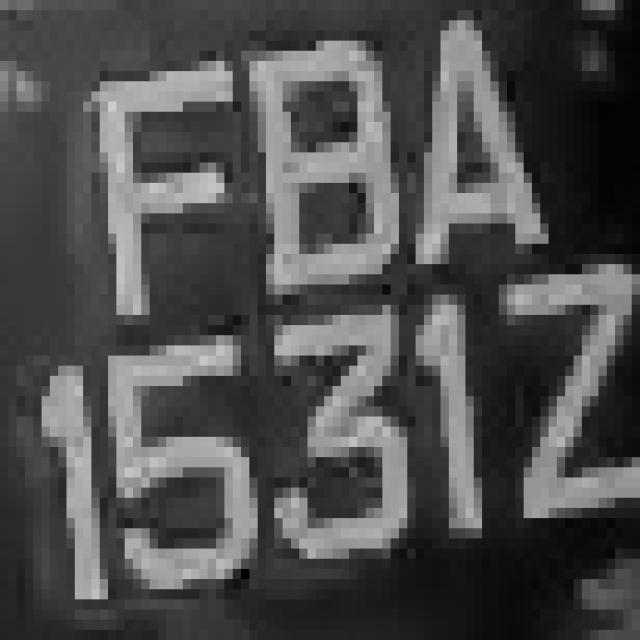1: (399, 284, 499, 579), (17, 335, 116, 610)
3: (249, 274, 424, 600)
5: (100, 325, 258, 640)
A: (391, 10, 548, 285)
B: (233, 20, 432, 305)
F: (75, 31, 233, 356)
Z: (482, 254, 640, 538)
